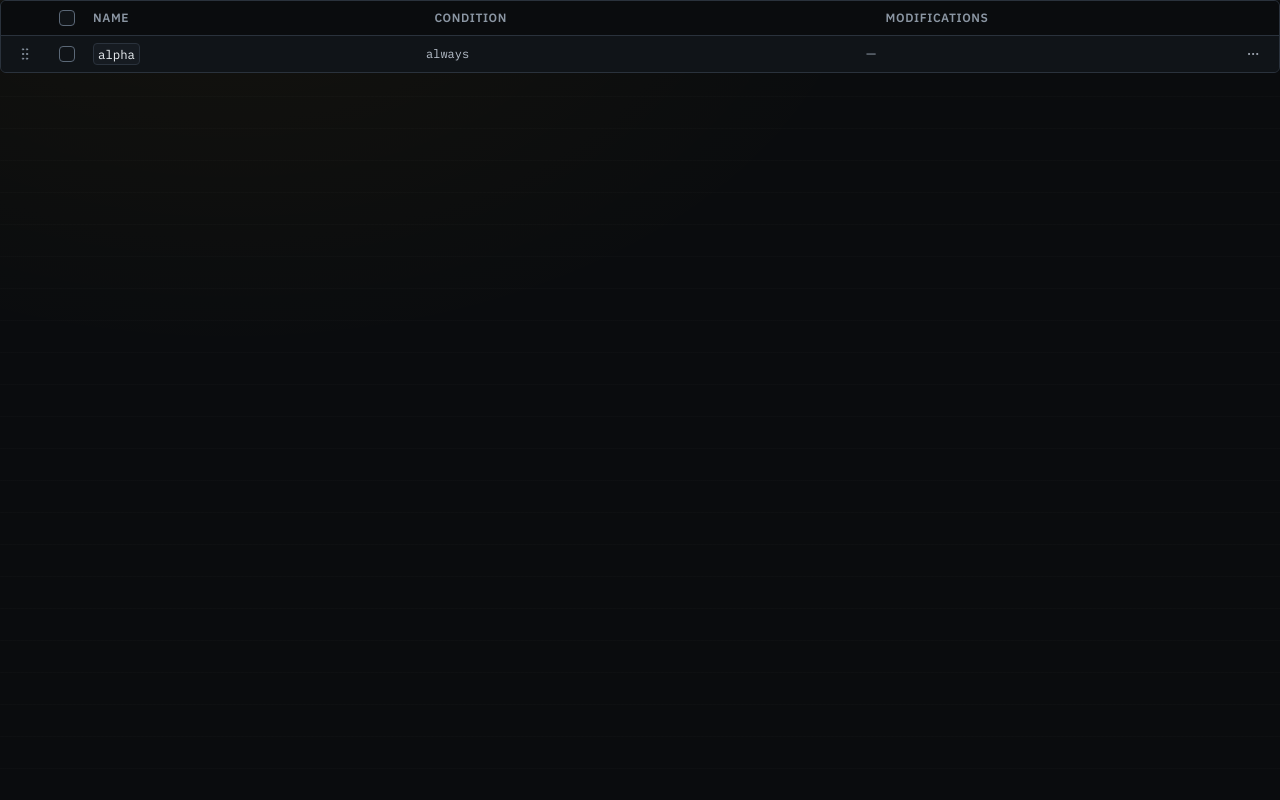
Test: RulesTreeTable › row-actions kebab + right-click menu + details drawer › View details via the kebab opens the drawer showing Record + Audit sections
The image size is (1280, 800).
Click the button named "row actions": (1253, 54) [1239,40,1267,68]
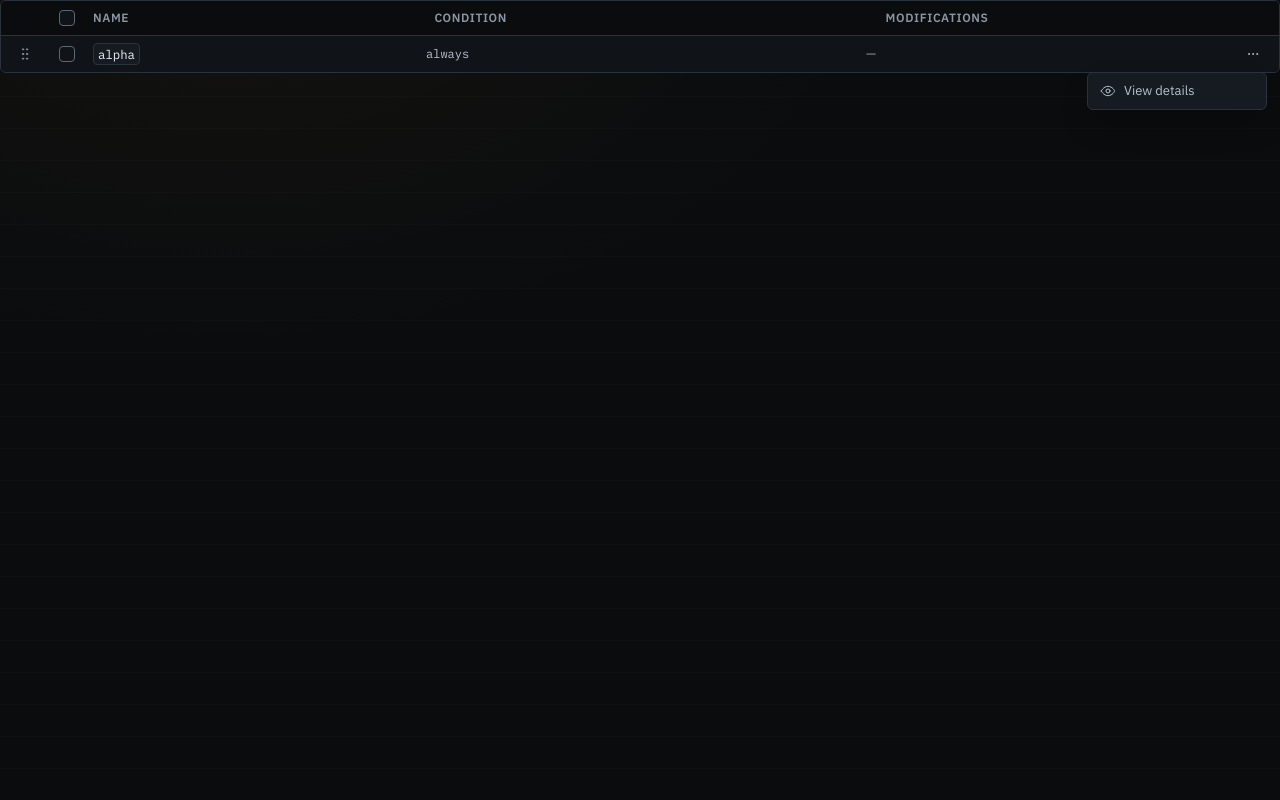
Click the menu item "View details": (1147, 90) [1100,82,1195,99]
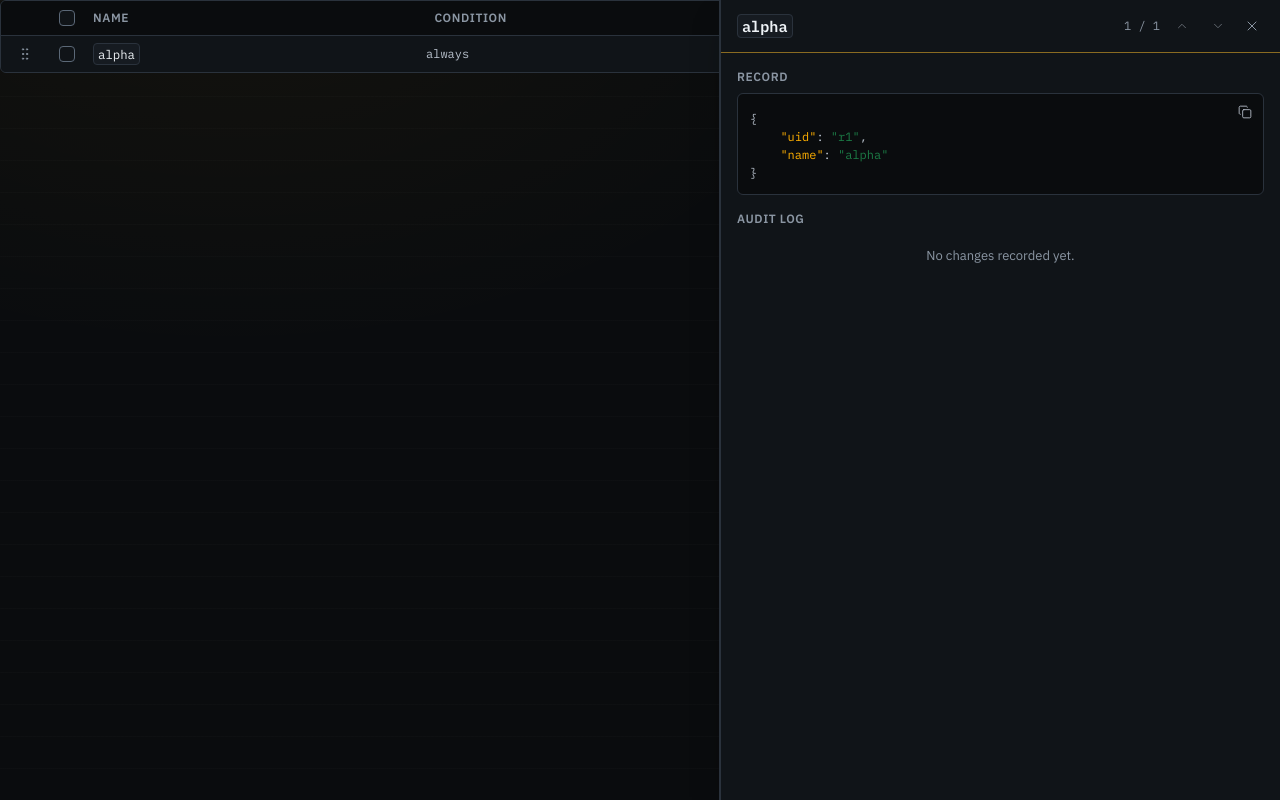
Now the dialog shows "Record", box [737,69,788,84]
Now the dialog shows "Audit log", box [737,211,804,226]
